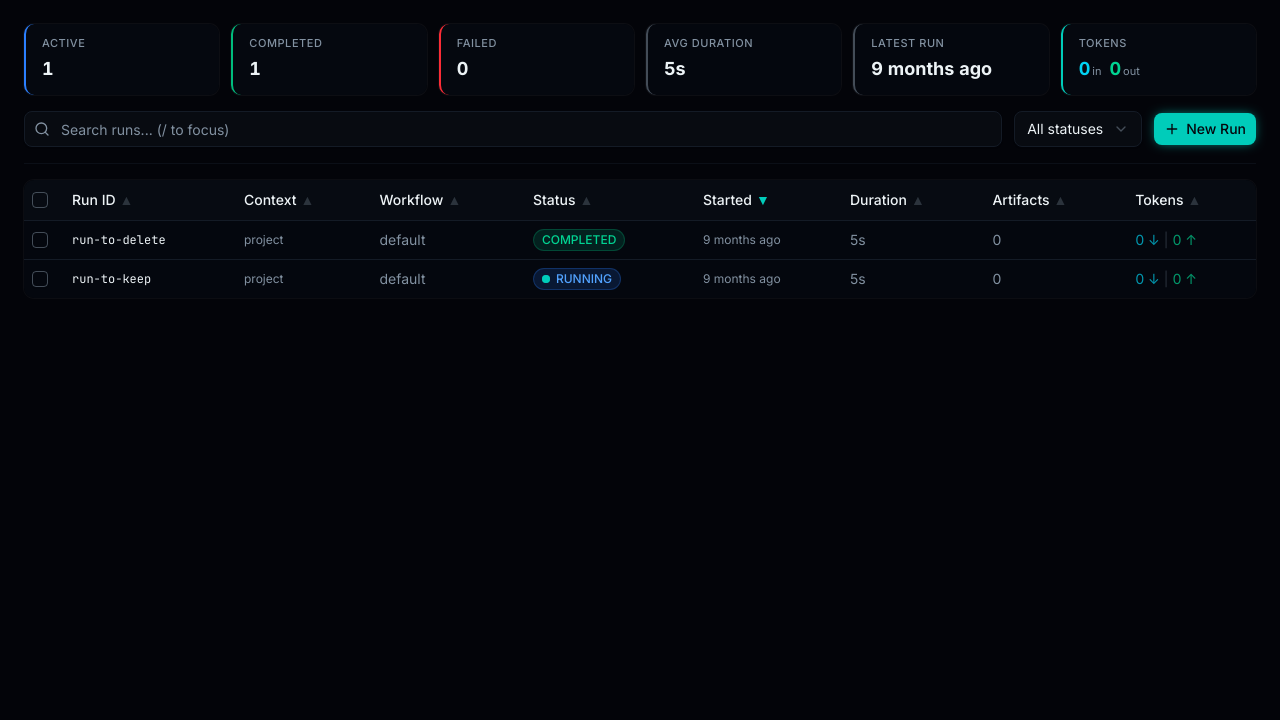
it: RunListPage - delete flow › cancels deletion when clicking Cancel in the dialog
The image size is (1280, 720).
Expected: the text "run-to-delete" is shown, [64, 220, 236, 259]
Note: Select a run and open the delete dialog
Click the checkbox named "Select run run-to-delete". click: [40, 240]
box: [32, 232, 48, 248]
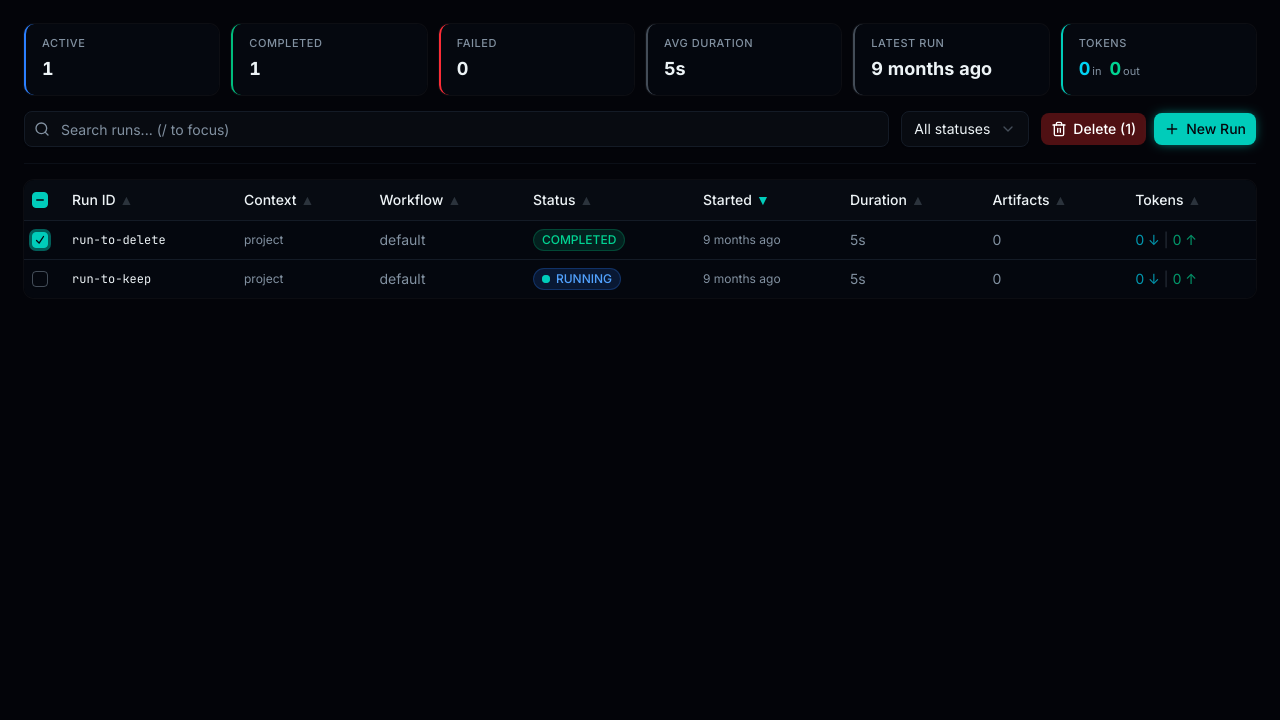
Click the button "Delete (1)". click: [1094, 129]
box: [1041, 113, 1146, 145]
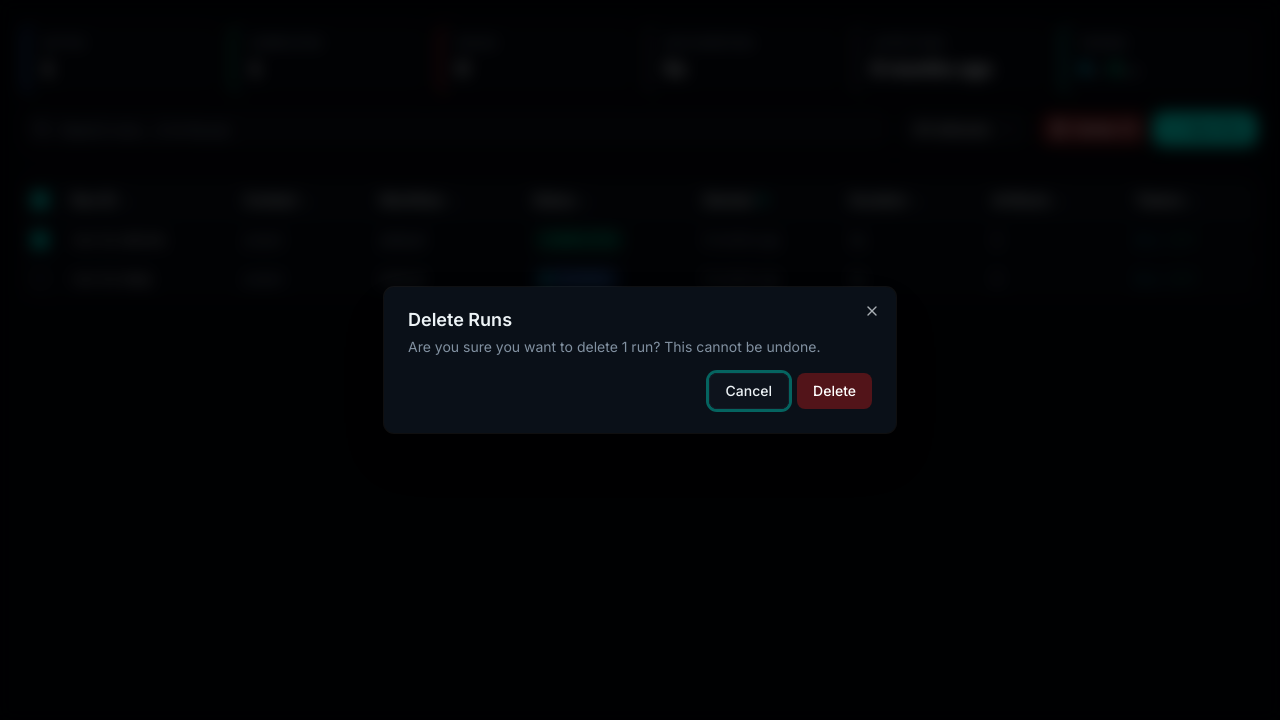
Now the heading "Delete Runs" is shown, box [408, 309, 512, 330]
Note: Click Cancel
Click the button "Cancel". click: [749, 391]
box: [709, 373, 789, 409]
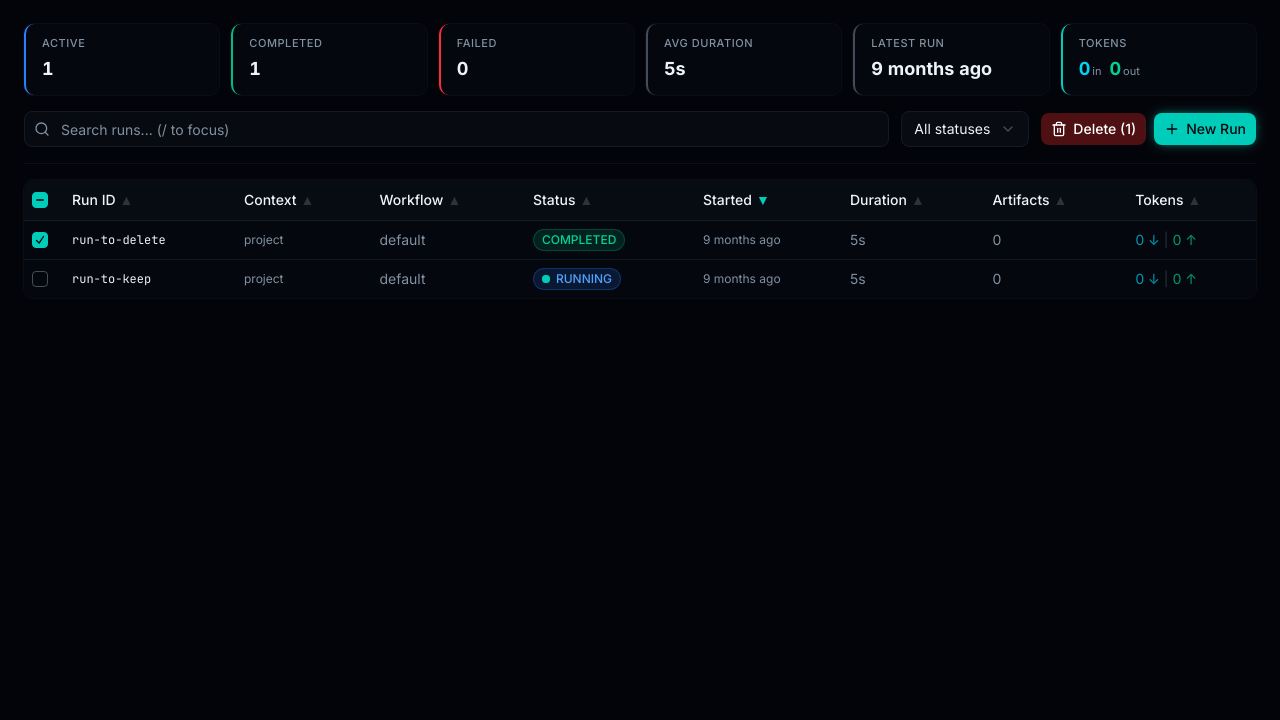
Now the heading "Delete Runs" is gone
